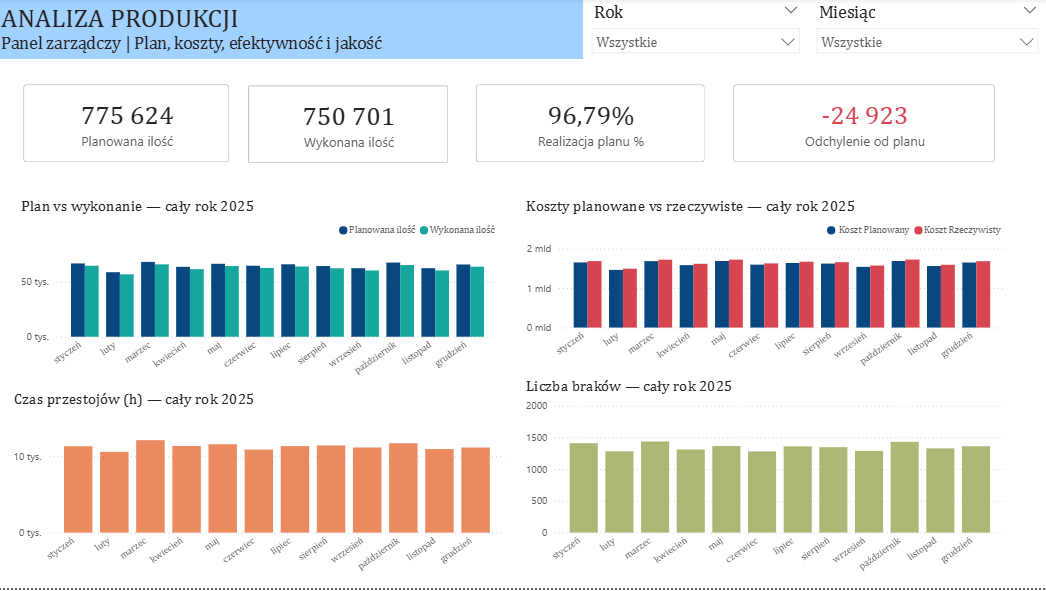

The dashboard page shown, as its layout file describes it:
{"tool":"powerbi","page":{"name":"Analiza produkcji (2025) - najważniejsze informacje","canvas":[1280,720],"ordinal":0},"visuals":[{"type":"cardVisual","fields":{"Data":["FactProdukcja.Planowana ilość"]},"box":[15.2,88.4,285,129.6],"z":1000},{"type":"cardVisual","fields":{"Data":["FactProdukcja.Wykonana ilość"]},"box":[289.6,89.9,277.4,128],"z":2000},{"type":"cardVisual","fields":{"Data":["FactProdukcja.Realizacja planu %"]},"box":[567,88.4,314,129.6],"z":3000},{"type":"cardVisual","fields":{"Data":["FactProdukcja.Odchylenie od planu"]},"box":[881,88.4,353.6,129.6],"z":4000},{"type":"clusteredColumnChart","fields":{"Category":["DimData.Miesiac"],"Y":["Sum(FactProdukcja.KosztPlanowany)","Sum(FactProdukcja.KosztRzeczywisty)"]},"box":[639.4,243,593.8,218.7],"z":5000},{"type":"clusteredColumnChart","fields":{"Y":["FactProdukcja.Czas przestojów (h)"],"Category":["DimData.Miesiac"]},"box":[15.2,476.9,609,243],"z":6000},{"type":"clusteredColumnChart","fields":{"Category":["DimData.Miesiac"],"Y":["FactProdukcja.Planowana ilość","FactProdukcja.Wykonana ilość"]},"box":[24.3,243,592.3,233.9],"z":7000},{"type":"columnChart","fields":{"Category":["DimData.Miesiac"],"Y":["FactProdukcja.Liczba braków"]},"box":[639.4,461.7,593.8,258.2],"z":8000},{"type":"textbox","box":[0,0,714.8,74.7],"z":9000},{"type":"slicer","fields":{"Values":["DimData.Rok"]},"box":[714.8,0,274.4,89.9],"z":10000},{"type":"slicer","fields":{"Values":["DimData.Miesiac"]},"box":[989.2,0,291.1,74.7],"z":11000}]}

Visuals, with their boxes in screenshot pixels (x1, y1, x2, y2), scaled from the page's 1280x720 canvas onto the 1046x591 screenshot:
cardVisual - FactProdukcja.Planowana ilość: (12, 73, 245, 179)
cardVisual - FactProdukcja.Wykonana ilość: (237, 74, 463, 179)
cardVisual - FactProdukcja.Realizacja planu %: (463, 73, 720, 179)
cardVisual - FactProdukcja.Odchylenie od planu: (720, 73, 1009, 179)
clusteredColumnChart - DimData.Miesiac x Sum(FactProdukcja.KosztPlanowany): (523, 199, 1008, 379)
clusteredColumnChart - FactProdukcja.Czas przestojów (h) x DimData.Miesiac: (12, 391, 510, 590)
clusteredColumnChart - DimData.Miesiac x FactProdukcja.Planowana ilość: (20, 199, 504, 391)
columnChart - DimData.Miesiac x FactProdukcja.Liczba braków: (523, 379, 1008, 590)
textbox: (0, 0, 584, 61)
slicer - DimData.Rok: (584, 0, 808, 74)
slicer - DimData.Miesiac: (808, 0, 1045, 61)
